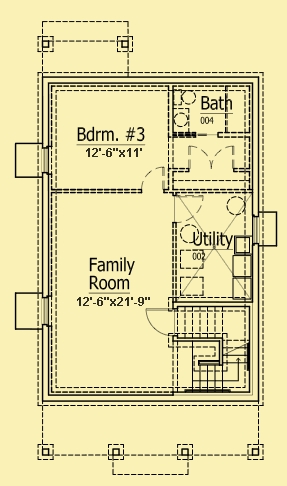door: (186, 141, 236, 175), (142, 304, 178, 341), (174, 192, 206, 225), (138, 163, 167, 198)
large sink: (172, 86, 198, 111)
small sink: (172, 107, 189, 134)
stairs: (174, 302, 256, 396)
windows: (40, 292, 57, 329), (39, 141, 55, 180), (248, 212, 262, 248)
